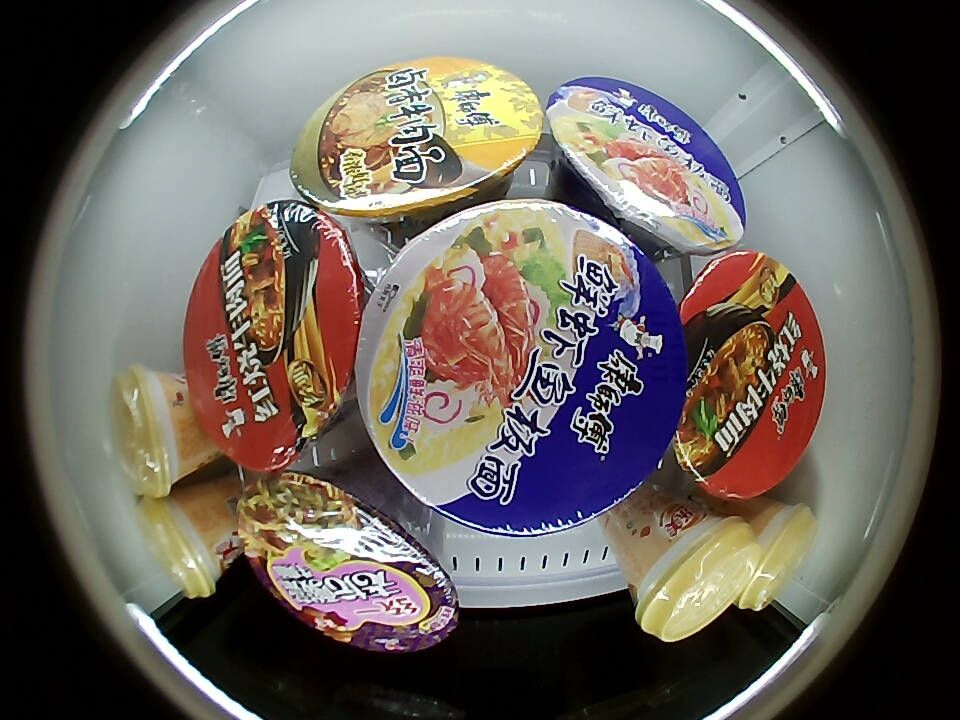hongshaoniurou: (183, 199, 364, 468), (671, 250, 824, 501)
laotansuancai: (236, 468, 459, 653)
luxiangniurou: (290, 58, 545, 220)
xianxiayuban: (355, 199, 688, 539), (545, 75, 747, 253)
youlemei: (631, 509, 759, 643), (113, 365, 189, 498), (137, 491, 229, 600), (738, 501, 817, 612)
